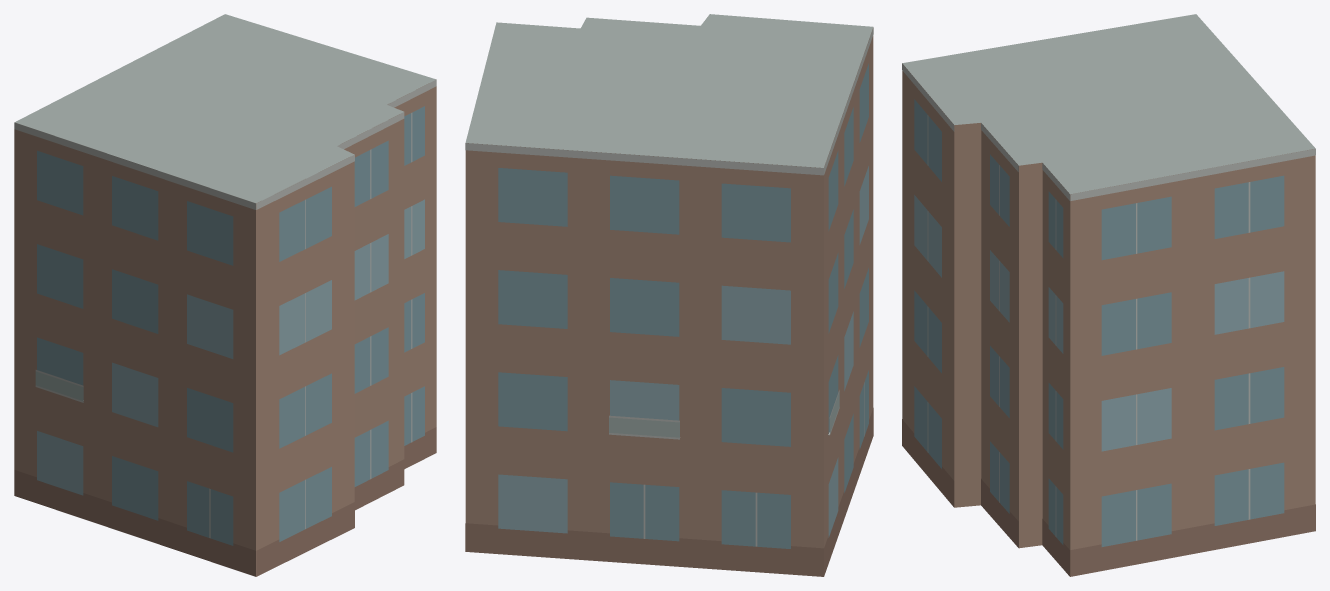
File: survey-upis-32867746.glb
3 views of the same model, side by side, from view 1: azimuth 30°, elevation 25°; view 2: azimuth 150°, elevation 25°; view 3: azimuth 270°, elevation 25° (orthographic). The views are drawn at different scales.
Parts seen in each view (by area): view 1: survey-upis-32867746.tmp; view 2: survey-upis-32867746.tmp; view 3: survey-upis-32867746.tmp.
Part boxes in pixels (bbox=[...]): survey-upis-32867746.tmp: bbox=[14, 14, 436, 576]; survey-upis-32867746.tmp: bbox=[465, 14, 873, 576]; survey-upis-32867746.tmp: bbox=[902, 14, 1315, 576].
Size of the model in its own units: 13.6 by 13.45 by 13.19.
